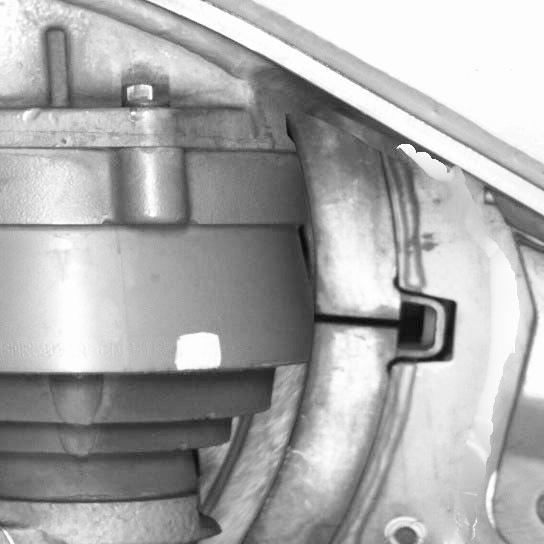ClosedKnifeSwitch: (190, 145, 428, 541)
